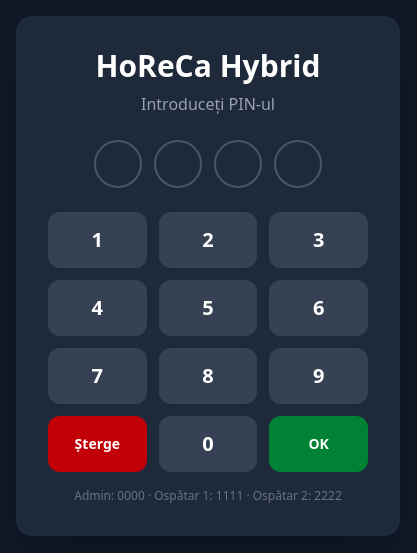
Test: LoginPage › clears PIN when clear button is clicked
This screenshot has width=417, height=553.
Step 1. Click the button "1" → (97, 240), box top-left (48, 212), bottom-right (147, 268)
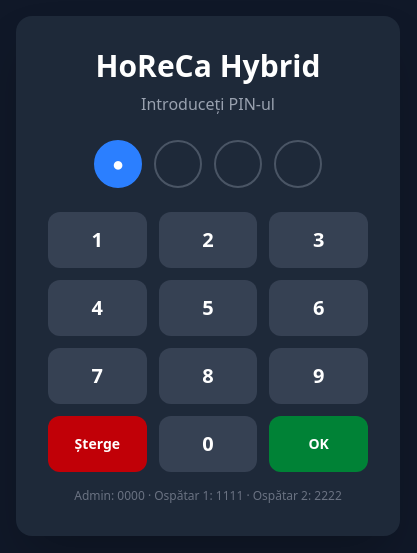
Step 2. Click the button "2" → (208, 240), box top-left (159, 212), bottom-right (257, 268)
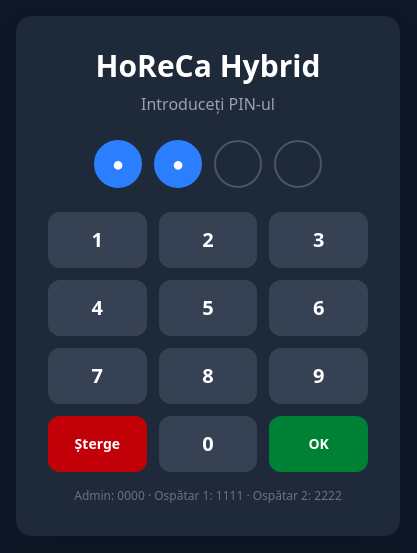
Expected: the text "●" is shown 2 times, top-left (94, 140), bottom-right (142, 188); top-left (154, 140), bottom-right (202, 188)
Step 3. Click the button "Șterge" → (97, 444), box top-left (48, 416), bottom-right (147, 472)
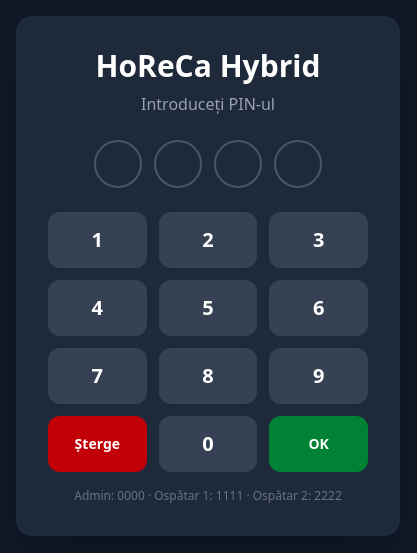
Result: the text "●" is not shown
